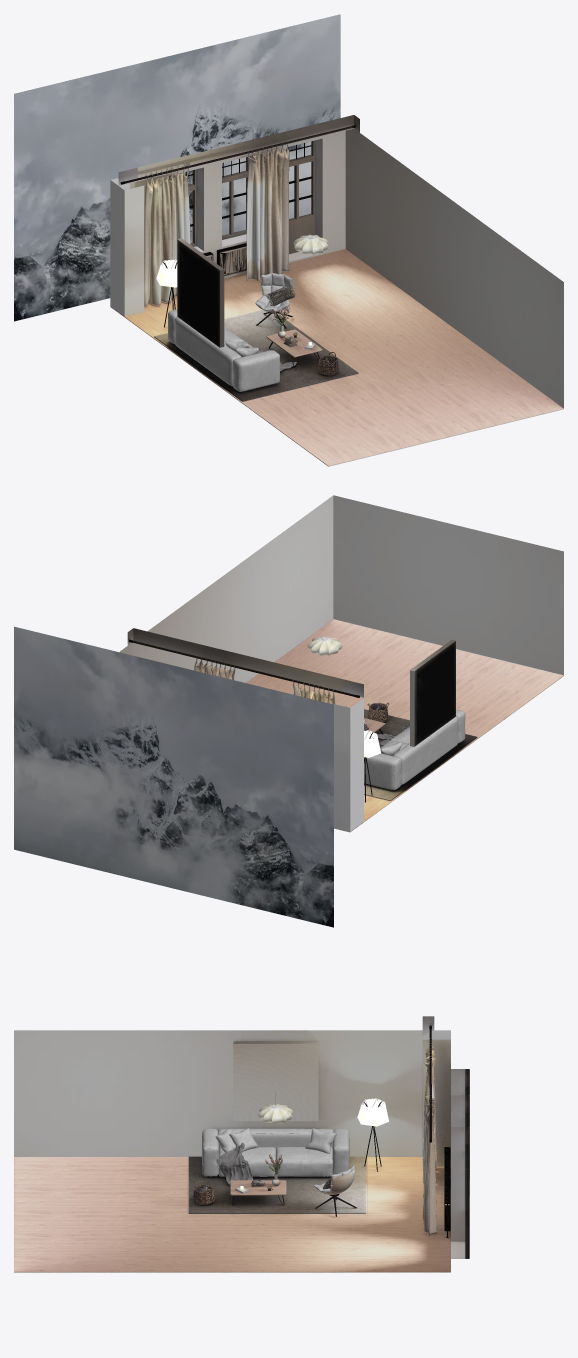
Rendered from room.glb.
The picture shows the model from 3 angles, top to bottom: view 1: azimuth 30°, elevation 25°; view 2: azimuth 150°, elevation 25°; view 3: azimuth 270°, elevation 25°; orthographic projection. The views are drawn at different scales.
Parts seen in each view (by area): view 1: Plane.003_Material.004_0, Cube_Material_0, Cube.019_Birch Wood Flooring English_0, CURTAIN 2.008_Material.001_0, Cube.007_Material.023_0, Plane_Material.021_0, Leather Sofa_Fabric.002_0, Cube.034_Fabric.001_0, Cube.021_Material.009_0, Sphere.001_Leather Fabric 01.002_0; view 2: Plane.003_Material.004_0, Cube_Material_0, Cube.019_Birch Wood Flooring English_0, Cube.007_Material.023_0, Leather Sofa_Fabric.002_0, Plane_Material.021_0, CURTAIN 2.008_Material.001_0, Sphere.001_Leather Fabric 01.002_0; view 3: Cube_Material_0, Cube.019_Birch Wood Flooring English_0, Leather Sofa_Fabric.002_0, Plane.001_Material.013_0, Plane_Material.021_0, Cube.007_Material.023_0, CURTAIN 2.008_Material.001_0, Plane.002_Tecido.005_0, Cube.021_Material.009_0, Circle.005_Leather Fabric 01_0, Sphere.001_Leather Fabric 01.002_0.
Part boxes in pixels (left/top/right/bottom): Plane.003_Material.004_0: left=14, top=14, right=340, bottom=321; Cube_Material_0: left=110, top=115, right=563, bottom=408; Cube.019_Birch Wood Flooring English_0: left=110, top=249, right=563, bottom=466; CURTAIN 2.008_Material.001_0: left=144, top=141, right=289, bottom=306; Cube.007_Material.023_0: left=120, top=125, right=356, bottom=368; Plane_Material.021_0: left=154, top=310, right=358, bottom=401; Leather Sofa_Fabric.002_0: left=168, top=309, right=280, bottom=391; Cube.034_Fabric.001_0: left=255, top=272, right=293, bottom=312; Cube.021_Material.009_0: left=266, top=329, right=322, bottom=357; Sphere.001_Leather Fabric 01.002_0: left=293, top=234, right=328, bottom=254; Plane.003_Material.004_0: left=14, top=626, right=333, bottom=927; Cube_Material_0: left=120, top=495, right=563, bottom=831; Cube.019_Birch Wood Flooring English_0: left=246, top=619, right=563, bottom=832; Cube.007_Material.023_0: left=129, top=639, right=455, bottom=746; Leather Sofa_Fabric.002_0: left=364, top=709, right=465, bottom=790; Plane_Material.021_0: left=364, top=709, right=477, bottom=800; CURTAIN 2.008_Material.001_0: left=194, top=656, right=335, bottom=704; Sphere.001_Leather Fabric 01.002_0: left=307, top=636, right=342, bottom=655; Cube_Material_0: left=14, top=1016, right=469, bottom=1258; Cube.019_Birch Wood Flooring English_0: left=14, top=1157, right=450, bottom=1272; Leather Sofa_Fabric.002_0: left=202, top=1128, right=349, bottom=1176; Plane.001_Material.013_0: left=233, top=1044, right=318, bottom=1121; Plane_Material.021_0: left=188, top=1156, right=366, bottom=1213; Cube.007_Material.023_0: left=194, top=1025, right=469, bottom=1258; CURTAIN 2.008_Material.001_0: left=422, top=1038, right=436, bottom=1236; Plane.002_Tecido.005_0: left=216, top=1142, right=253, bottom=1184; Cube.021_Material.009_0: left=230, top=1180, right=286, bottom=1195; Circle.005_Leather Fabric 01_0: left=357, top=1098, right=388, bottom=1126; Sphere.001_Leather Fabric 01.002_0: left=258, top=1093, right=293, bottom=1123.
Size of the model in its own units: 7.87 by 5.24 by 11.46.
23 materials, 23 textured.
